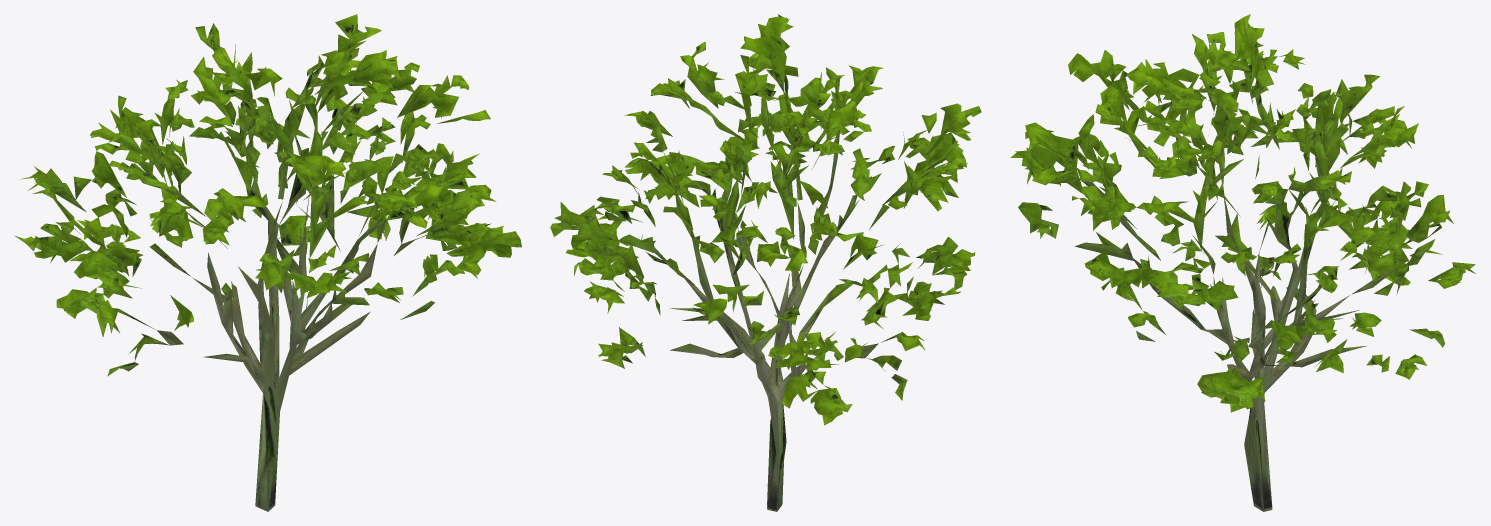
The model's file is green-tree.glb.
The picture shows the model from 3 angles, left to right: view 1: azimuth 30°, elevation 25°; view 2: azimuth 150°, elevation 25°; view 3: azimuth 270°, elevation 25°; orthographic projection. The views are drawn at different scales.
Size of the model in its own units: 1.77 by 1.76 by 1.58.
1 material, 1 textured.
